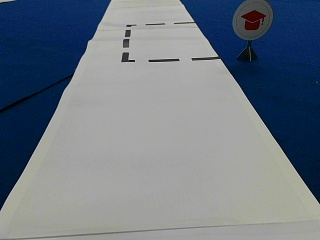school: (232, 1, 272, 39)
